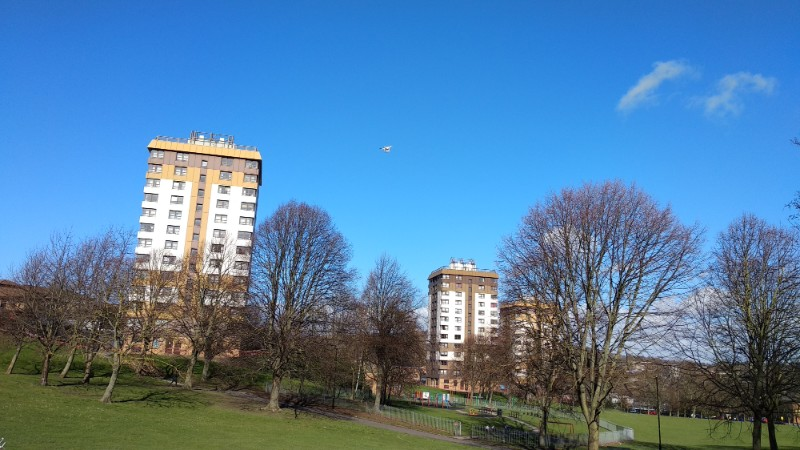drone: (380, 144, 393, 153)
